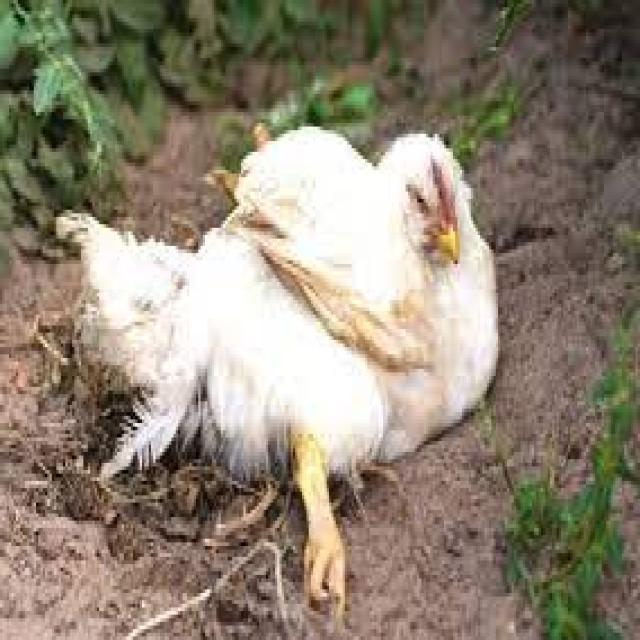AbNormal: (59, 125, 503, 612)
